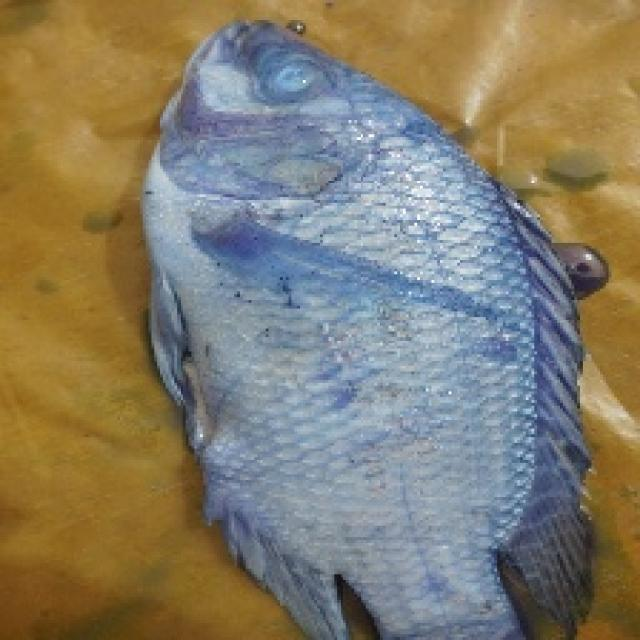Non-Fresh: (137, 11, 546, 626)
